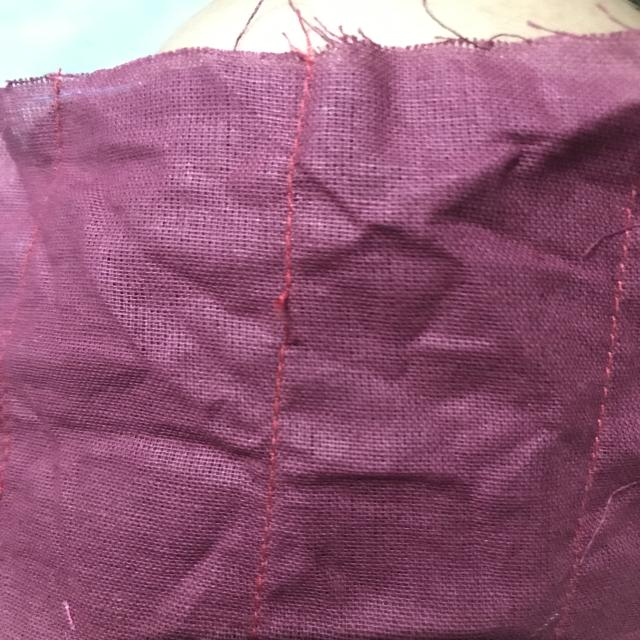broken: (249, 275, 328, 362)
good: (248, 424, 287, 507)
